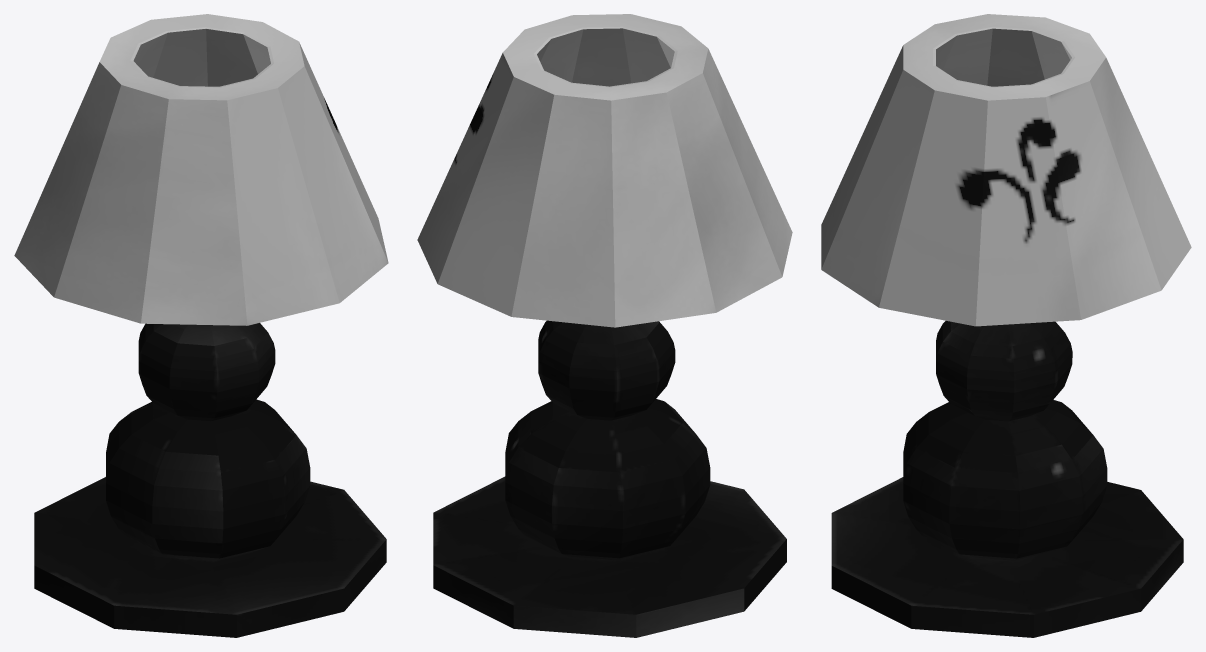
Rendered from lamp.fbx.
3 views of the same model, side by side, from view 1: azimuth 30°, elevation 25°; view 2: azimuth 150°, elevation 25°; view 3: azimuth 270°, elevation 25° (orthographic).
Parts seen in each view (by area): view 1: Cylinder; view 2: Cylinder; view 3: Cylinder.
Boxes of the visible parts, x1,y1,x2,y2 form: Cylinder: (14,14,388,637); Cylinder: (417,14,792,637); Cylinder: (821,14,1191,637).
Size of the model in its own units: 44.85 by 66.68 by 44.4.
